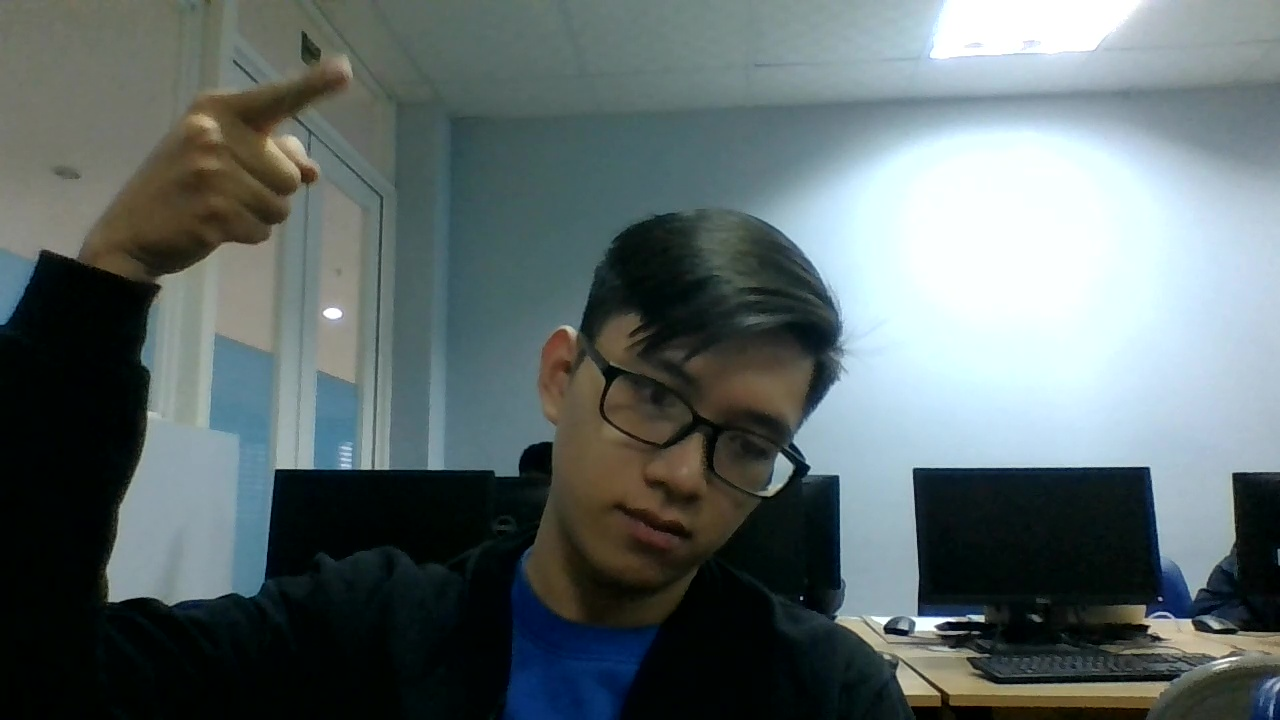left: (133, 50, 362, 269)
